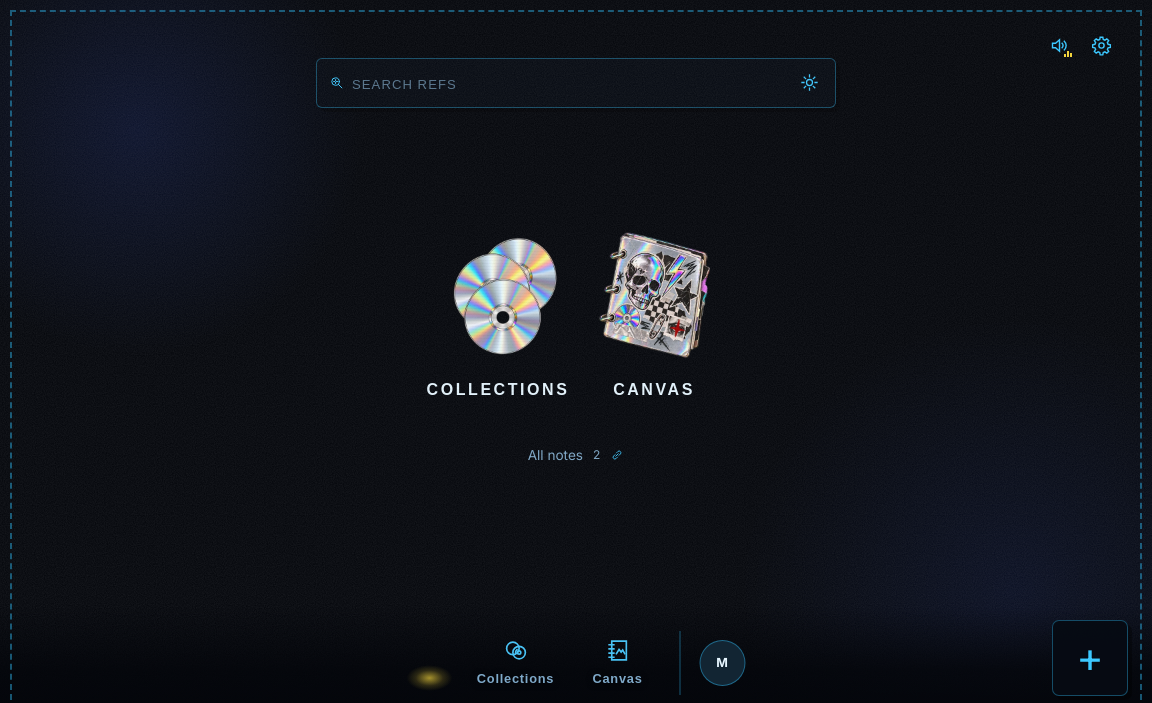
Scenario: App › goes back from a collection to Collections and then Home
Expected: the button "All notes 2" is shown, x1=516 y1=433 x2=636 y2=477
Click the button with aria-label "Open collections" at (498, 316), box x1=426 y1=219 x2=570 y2=413
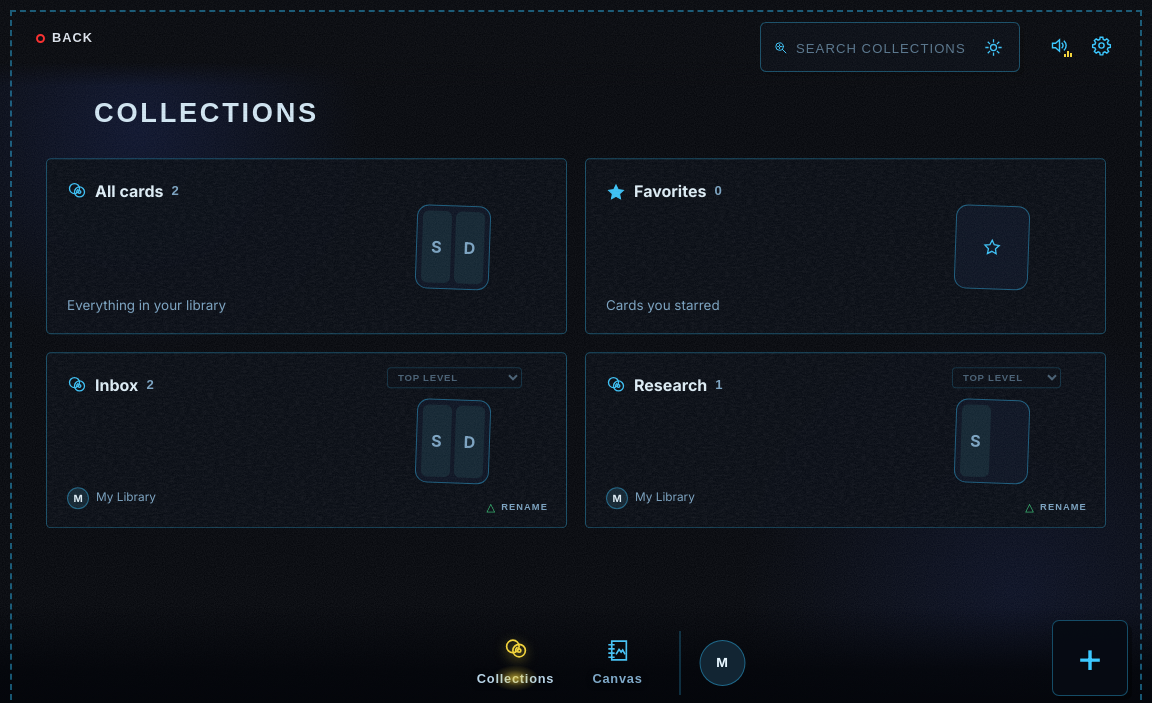
Click the button with aria-label "Open collection Inbox" at (453, 441), box x1=47 y1=353 x2=566 y2=527
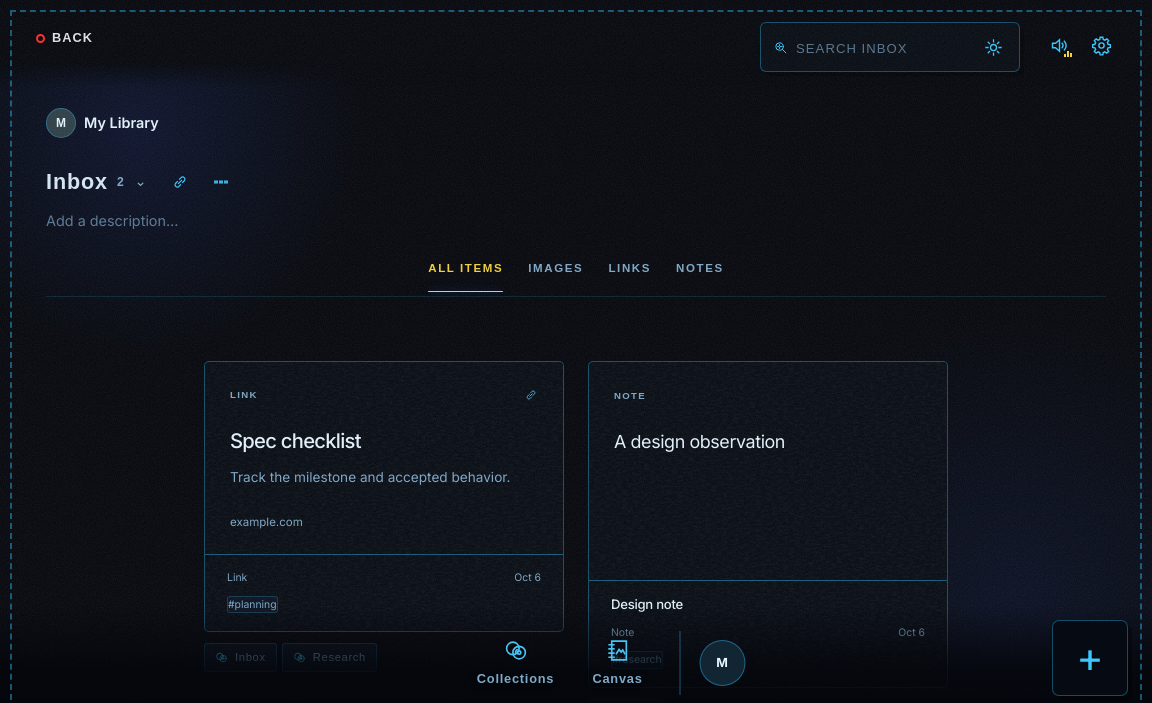
Click the button with aria-label "Go back" at (65, 38), box x1=28 y1=22 x2=101 y2=54
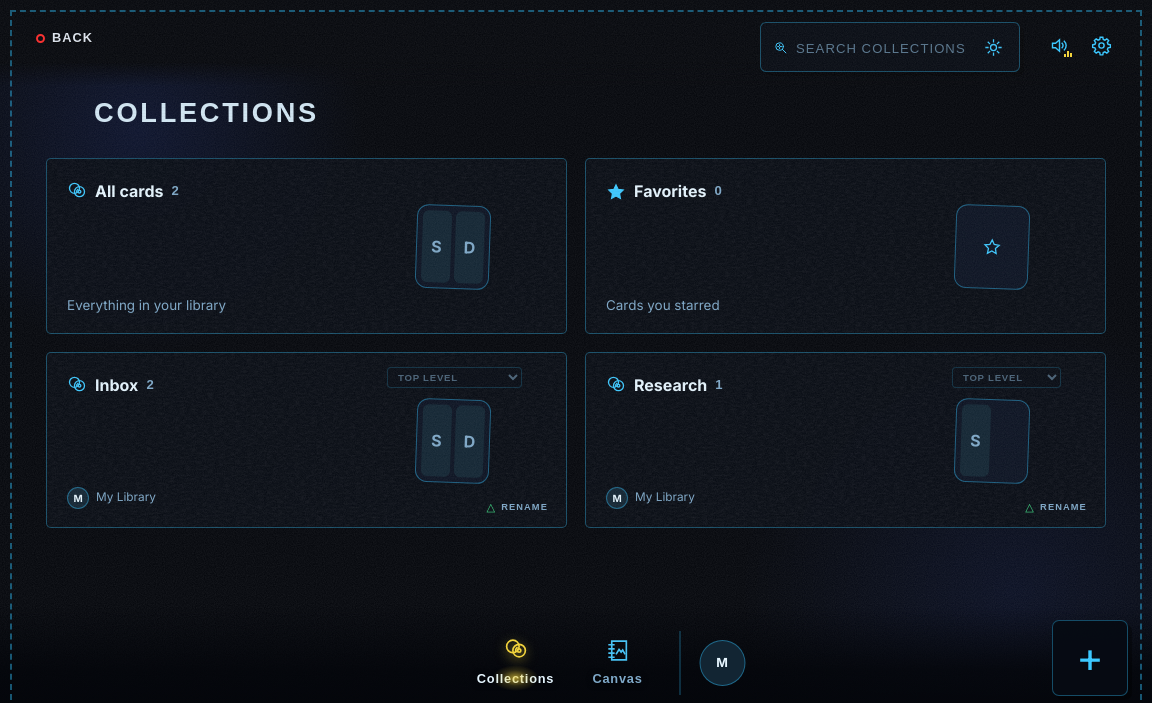
Now the heading "Collections" is shown, box x1=94 y1=96 x2=319 y2=130
Click the button with aria-label "Go back" at (65, 38), box x1=28 y1=22 x2=101 y2=54
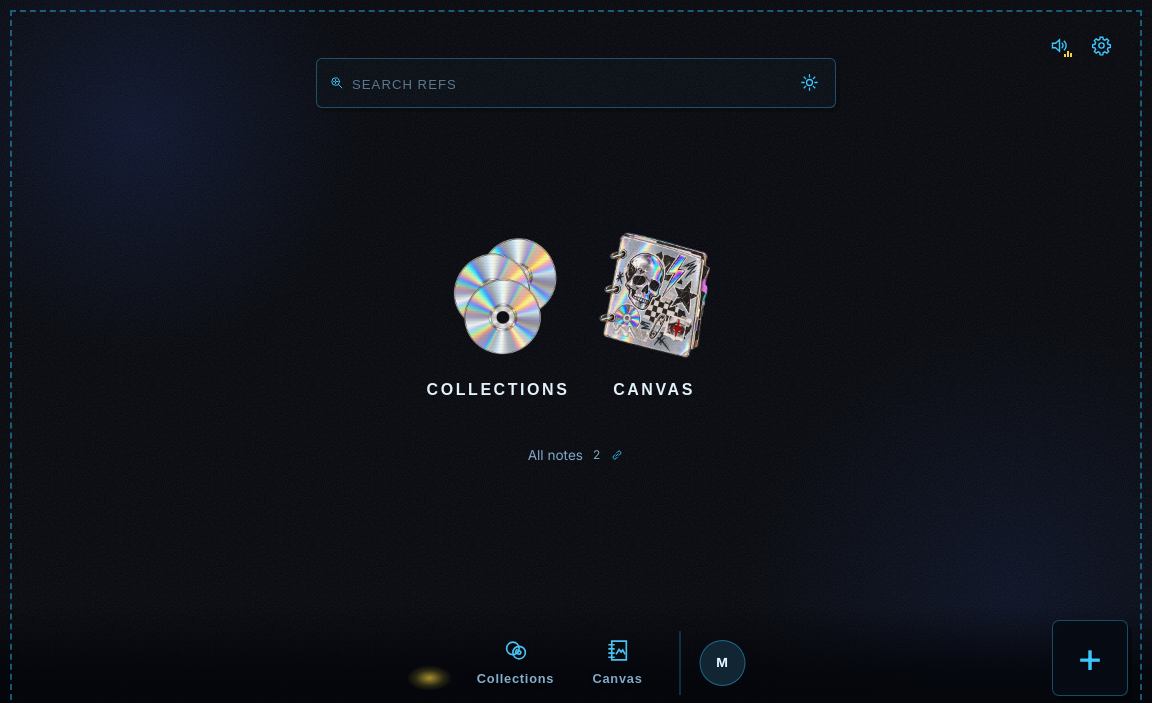
Now the button with aria-label "Open collections" is shown, box x1=426 y1=219 x2=570 y2=413
Now the button with aria-label "Open canvas" is shown, box x1=582 y1=219 x2=726 y2=413
